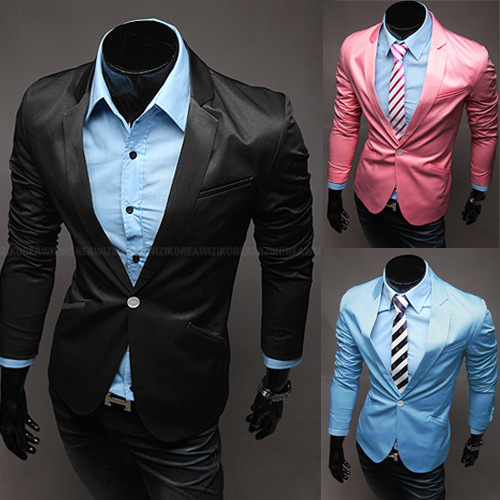F_M_suit jacket: (2, 56, 309, 443), (327, 264, 500, 468), (329, 17, 496, 224)
